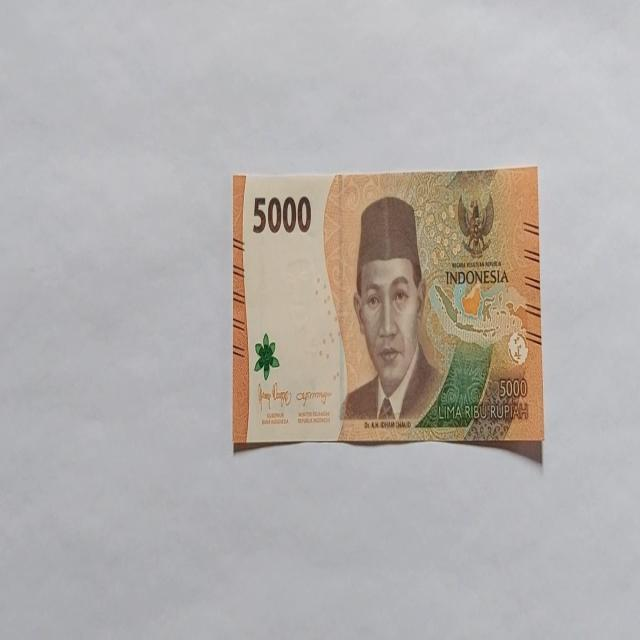lima ribu rupiah: (232, 166, 544, 455), (338, 195, 444, 425)
